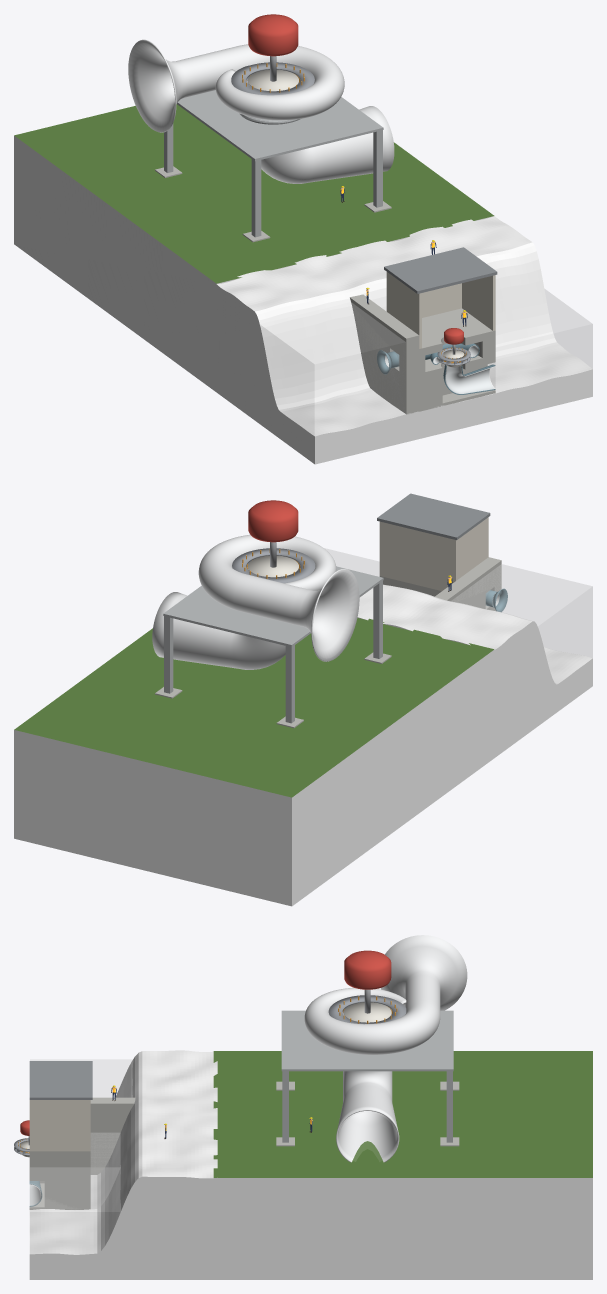
File: francis.glb
The picture shows the model from 3 angles, top to bottom: view 1: azimuth 30°, elevation 25°; view 2: azimuth 150°, elevation 25°; view 3: azimuth 270°, elevation 25°; orthographic projection. The views are drawn at different scales.
Parts seen in each view (by area): view 1: Wind_Site_Ground, Riverbed, Headwater, Wind_Francis_Spiral_Casing, Tailwater, Frame_Platform, Weir, Wind_Francis_Draft_Tube, Powerhouse_Substructure, Hall_Roof, Wind_Francis_Generator, Hall_Side_Wall_Up (+7 smaller); view 2: Wind_Site_Ground, Riverbed, Wind_Francis_Spiral_Casing, Headwater, Wind_Francis_Draft_Tube, Hall_Back_Wall, Frame_Platform, Hall_Roof, Weir, Wind_Francis_Generator, Hall_Side_Wall_Up, Wind_Francis_Stay_Ring_Upper (+5 smaller); view 3: Wind_Site_Ground, Riverbed, Wind_Francis_Spiral_Casing, Tailwater, Frame_Platform, Wind_Francis_Draft_Tube, Powerhouse_Substructure, Hall_Side_Wall_Down, Hall_Roof, Weir, Tailwater_Beside_Powerhouse, Wind_Francis_Generator (+5 smaller).
Boxes of the visible parts, x1,y1,x2,y2 form: Wind_Site_Ground: [14, 104, 494, 390]; Riverbed: [214, 216, 592, 464]; Headwater: [245, 302, 405, 438]; Wind_Francis_Spiral_Casing: [128, 39, 344, 132]; Tailwater: [488, 289, 592, 392]; Frame_Platform: [177, 90, 383, 161]; Weir: [350, 294, 419, 414]; Wind_Francis_Draft_Tube: [261, 106, 394, 183]; Powerhouse_Substructure: [419, 308, 495, 411]; Hall_Roof: [384, 247, 497, 293]; Wind_Francis_Generator: [248, 14, 298, 56]; Hall_Side_Wall_Up: [386, 272, 421, 348]; Wind_Site_Ground: [14, 618, 494, 906]; Riverbed: [357, 584, 592, 759]; Wind_Francis_Spiral_Casing: [198, 534, 359, 661]; Headwater: [452, 564, 592, 711]; Wind_Francis_Draft_Tube: [152, 592, 285, 669]; Hall_Back_Wall: [379, 521, 457, 590]; Frame_Platform: [163, 566, 383, 647]; Hall_Roof: [377, 493, 490, 540]; Weir: [435, 557, 501, 610]; Wind_Francis_Generator: [248, 500, 298, 542]; Hall_Side_Wall_Up: [453, 517, 488, 581]; Wind_Francis_Stay_Ring_Upper: [232, 548, 315, 583]; Wind_Site_Ground: [213, 1051, 592, 1279]; Riverbed: [29, 1050, 217, 1279]; Wind_Francis_Spiral_Casing: [304, 935, 467, 1054]; Tailwater: [30, 1167, 159, 1256]; Frame_Platform: [281, 1010, 453, 1071]; Wind_Francis_Draft_Tube: [336, 1071, 399, 1162]; Powerhouse_Substructure: [29, 1151, 90, 1209]; Hall_Side_Wall_Down: [29, 1100, 90, 1151]; Hall_Roof: [29, 1061, 92, 1099]; Weir: [90, 1097, 135, 1174]; Tailwater_Beside_Powerhouse: [91, 1133, 120, 1208]; Wind_Francis_Generator: [344, 950, 391, 989].
Bounding box in the file's own units: 32 × 30.7 × 61.68.
